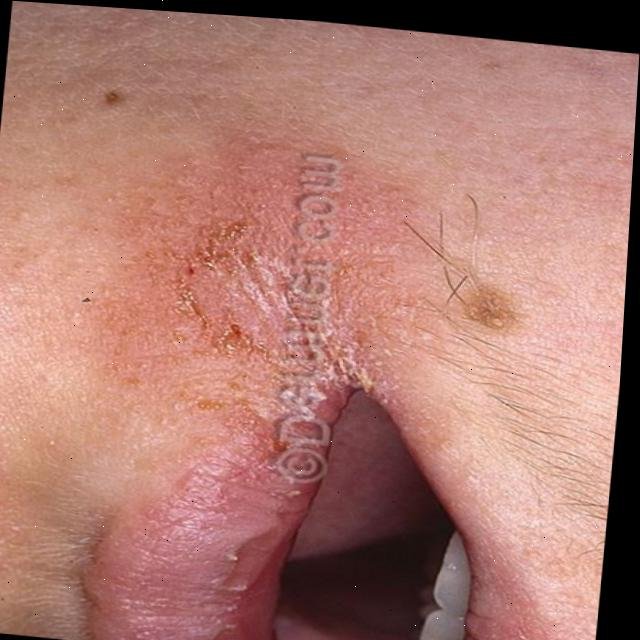Eczema: (105, 163, 326, 426)
